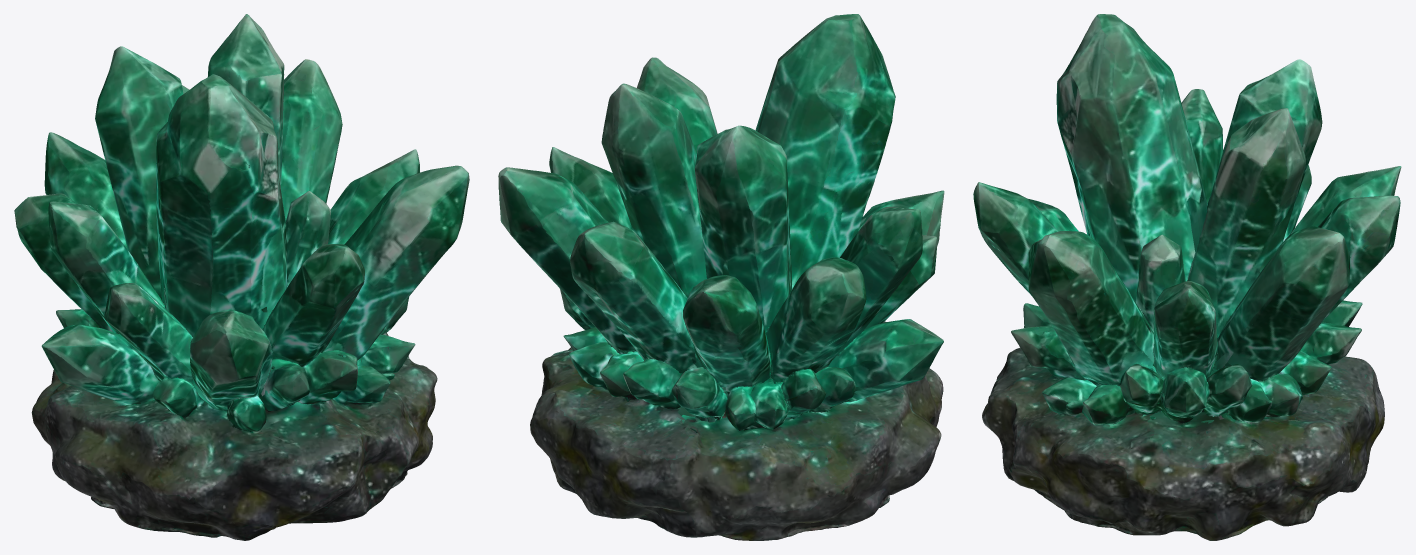
File: crystal.glb
3 renders of one model, left to right at view 1: azimuth 30°, elevation 25°; view 2: azimuth 150°, elevation 25°; view 3: azimuth 270°, elevation 25°, orthographic. The views are drawn at different scales.
Visible parts, largest first — view 1: geometry_0; view 2: geometry_0; view 3: geometry_0.
Part boxes in pixels (x1,y1,x2,y2): geometry_0: [14, 14, 469, 540]; geometry_0: [498, 14, 944, 540]; geometry_0: [973, 14, 1401, 540].
Bounding box in the file's own units: 0.292 × 0.32 × 0.2904.
1 material, 1 textured.
